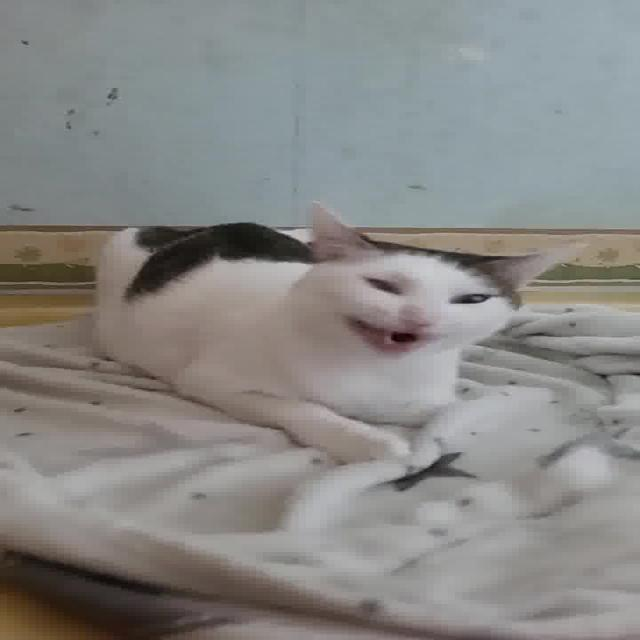cat: (93, 199, 590, 467)
